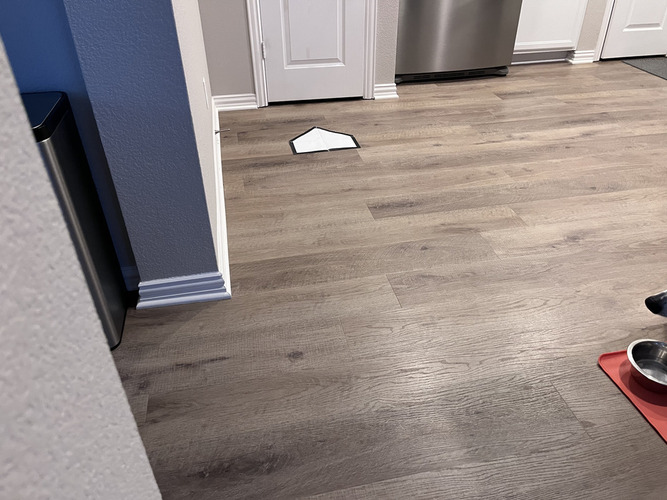homeplate: (287, 125, 361, 156)
